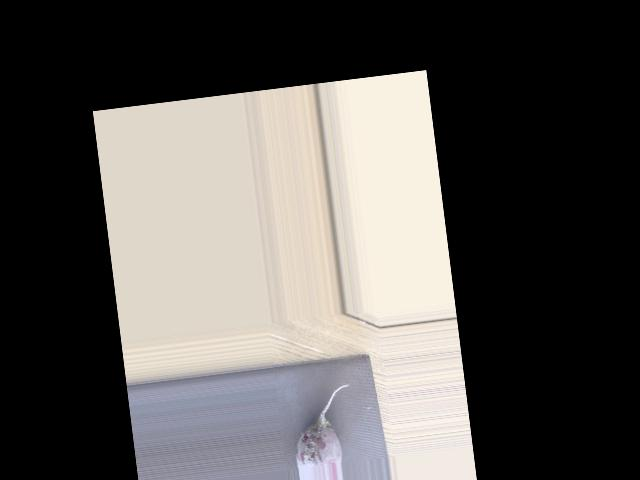beet: (287, 383, 358, 468)
